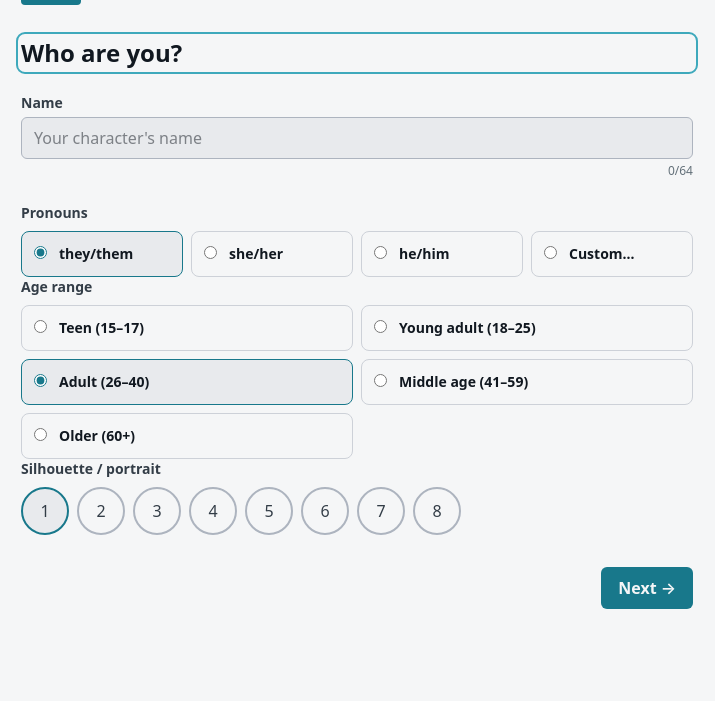
Test case: CharacterCreation – keyboard navigation › Back button can be activated via keyboard Enter
Step 1. Type "Sam" into the field labelled "Name" → (357, 138), box x1=21 y1=117 x2=693 y2=159
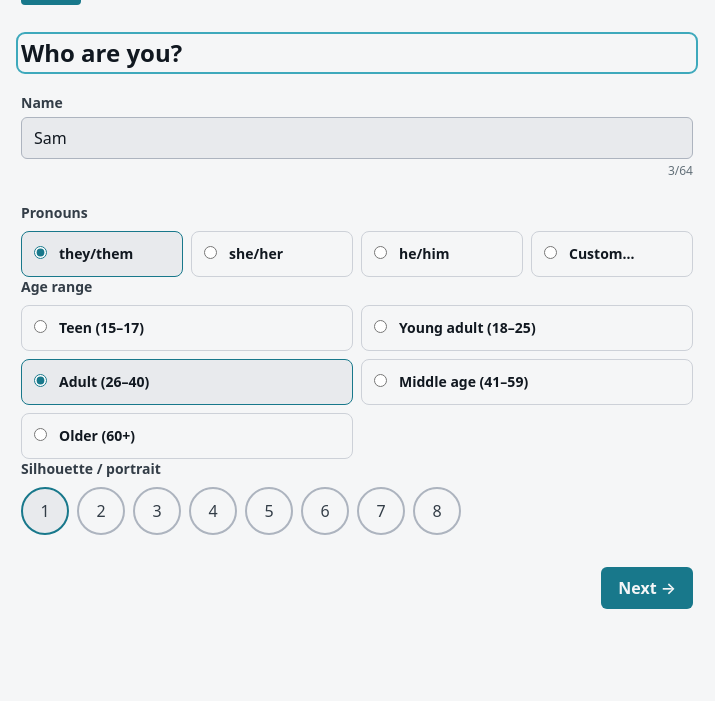
Step 2. Click the button "Next →" → click(647, 588), box x1=601 y1=567 x2=693 y2=609
(page scrolled)
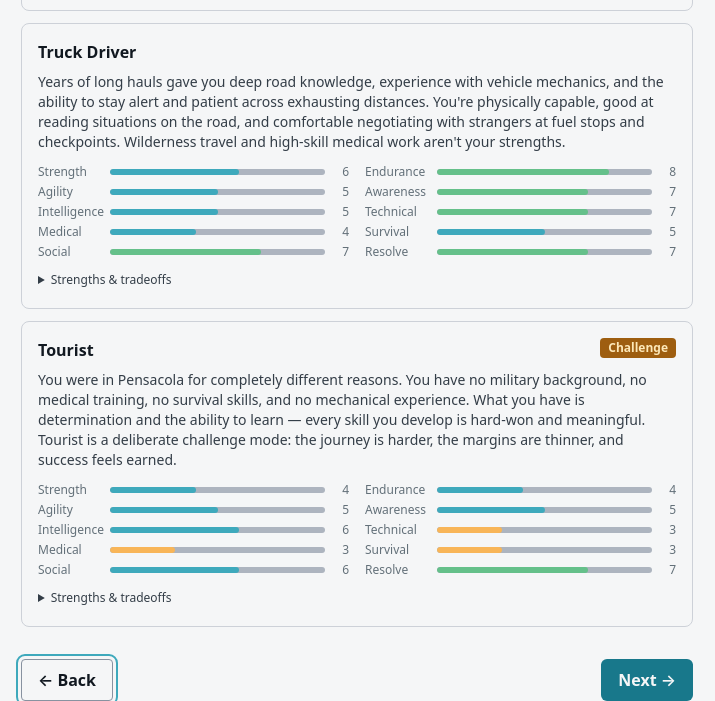
Step 3. Press Enter
(page scrolled)
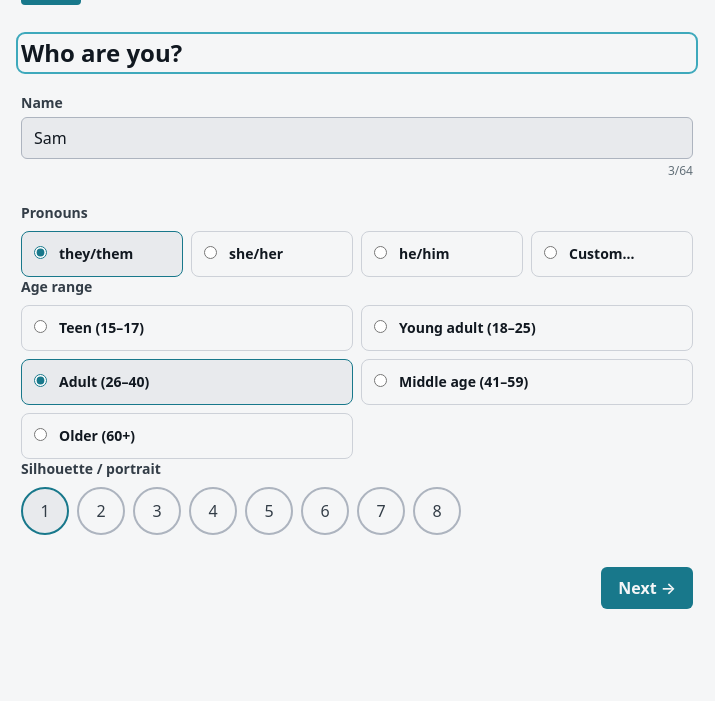
Check: the heading "Who are you?" is shown, box x1=21 y1=36 x2=182 y2=69
